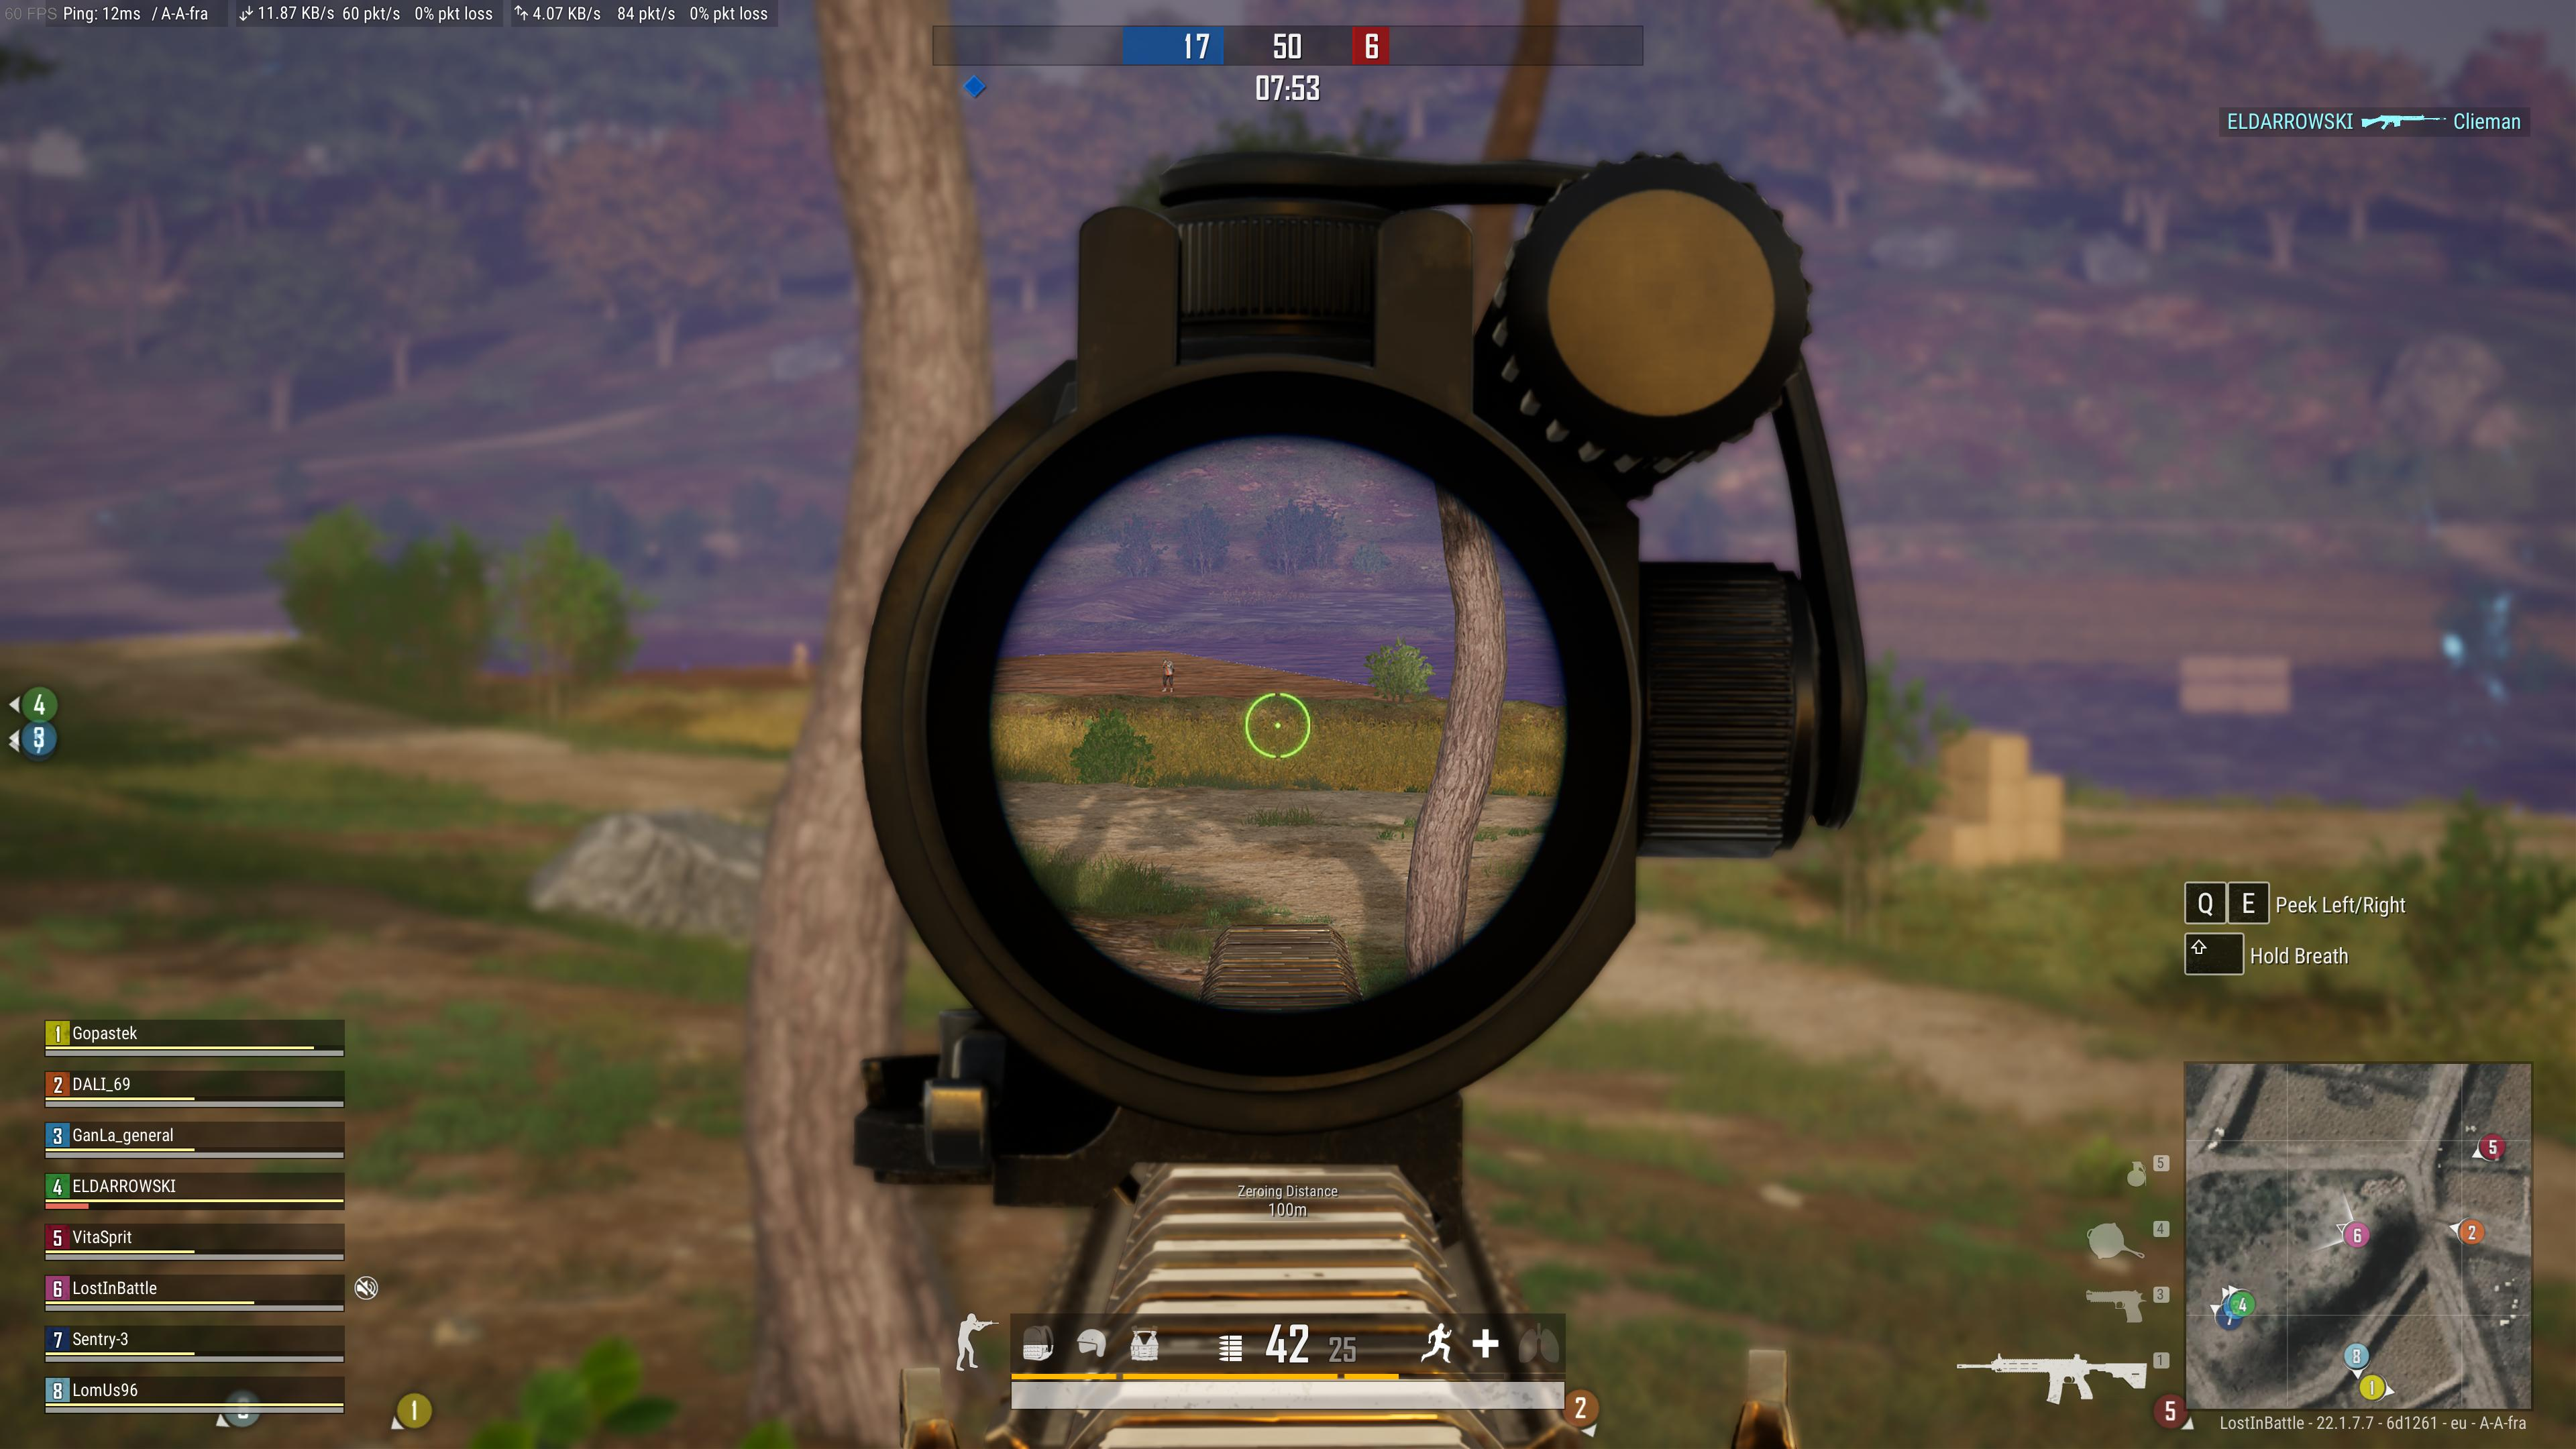enemy: (1161, 656, 1175, 692)
enemy_head: (1162, 656, 1169, 665)
